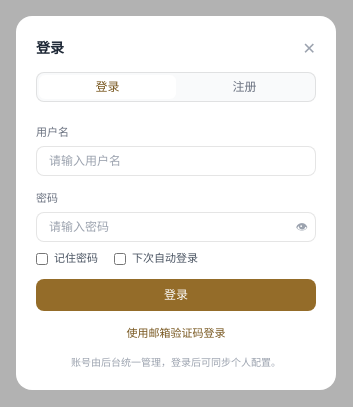
Test case: 登录 / 注册面板稳定挂载 › 登录方式（账号密码 / 邮箱验证码）切换不销毁面板，已输入内容保留
The image size is (353, 407).
Type "alice" into the field with placeholder "请输入用户名" at (176, 161), box [36, 146, 316, 176]
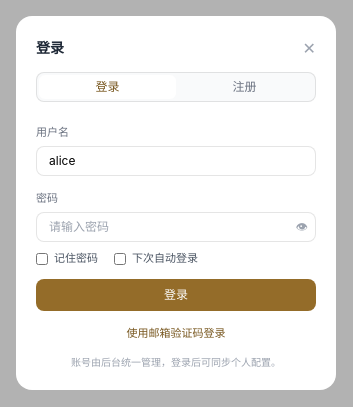
Type "Secret#123" into the password field with placeholder "请输入密码" at (176, 227), box [36, 212, 316, 242]
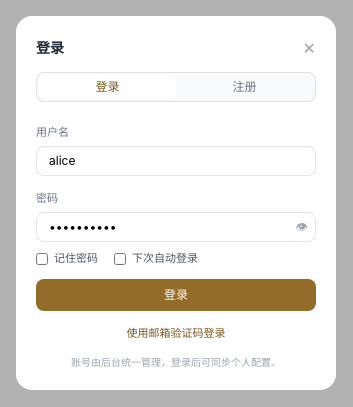
Click the button "使用邮箱验证码登录" at (176, 333), box [126, 325, 226, 341]
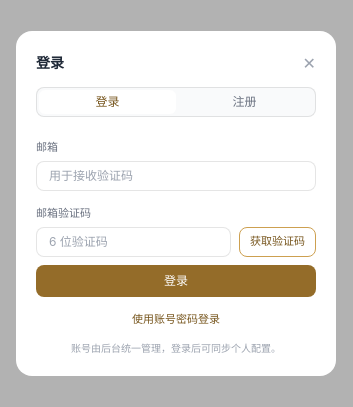
Now the field with placeholder "用于接收验证码" is shown, box [36, 160, 316, 190]
Click the button "使用账号密码登录" at (176, 319), box [132, 310, 220, 327]
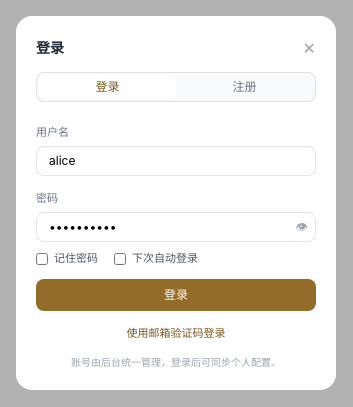
Now the field with placeholder "请输入用户名" holds "alice", box [36, 146, 316, 176]
Now the password field with placeholder "请输入密码" holds "Secret#123", box [36, 212, 316, 242]
